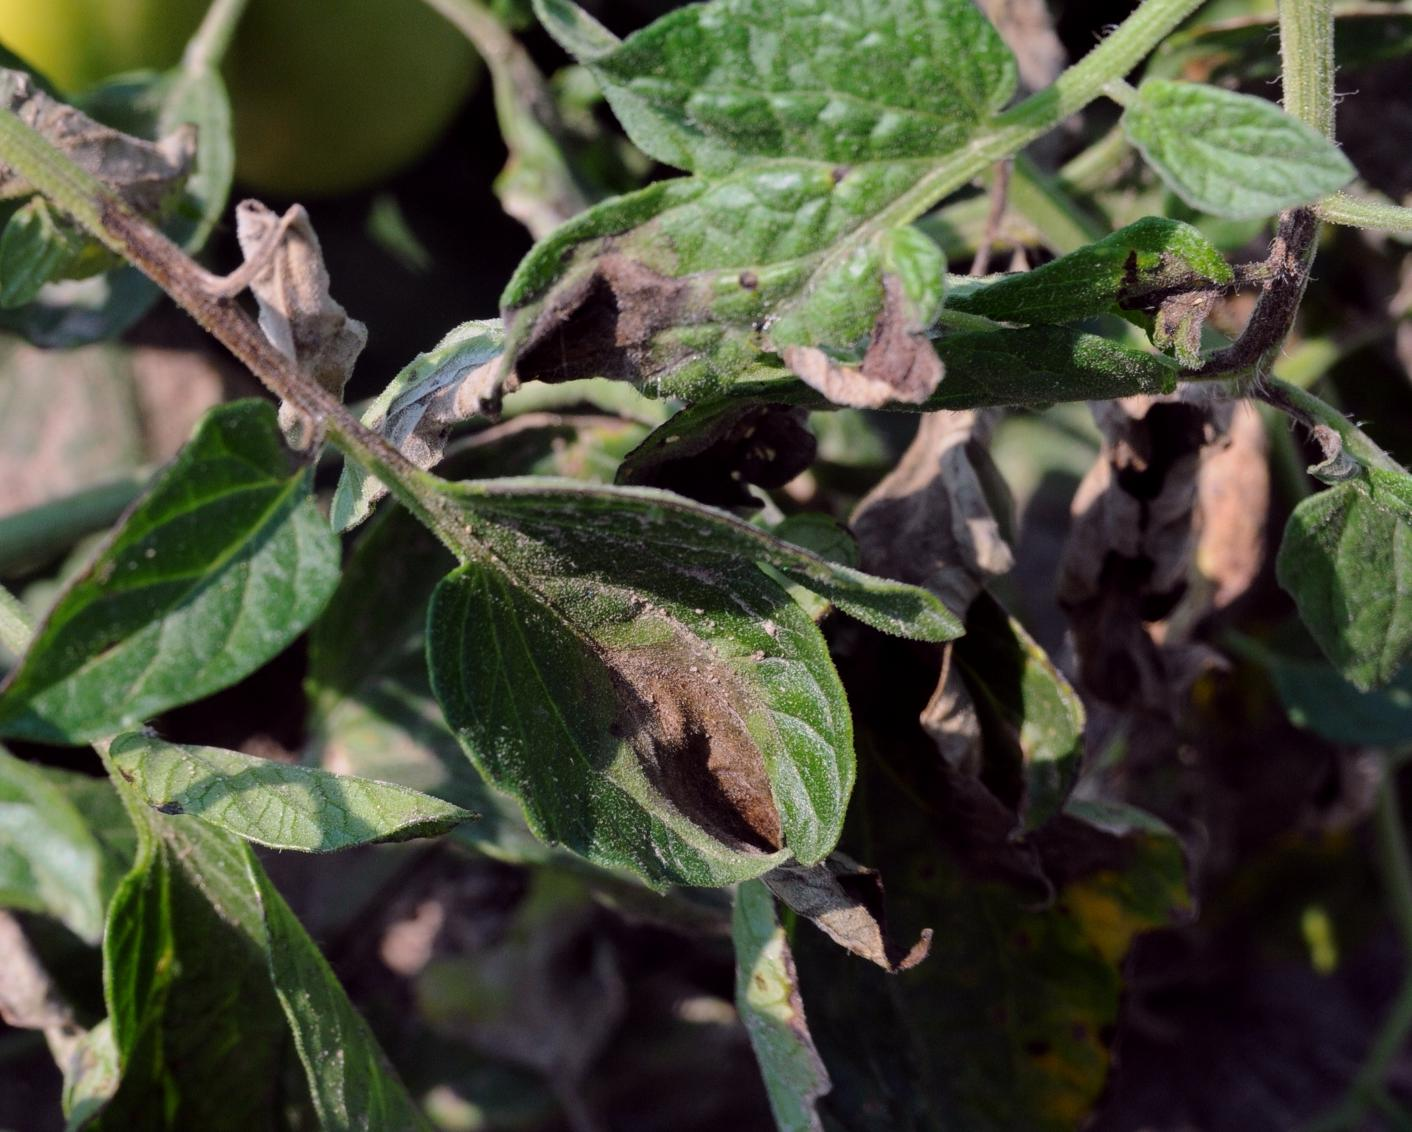Tomato leaf late blight: (417, 471, 893, 944), (513, 90, 1011, 443)
